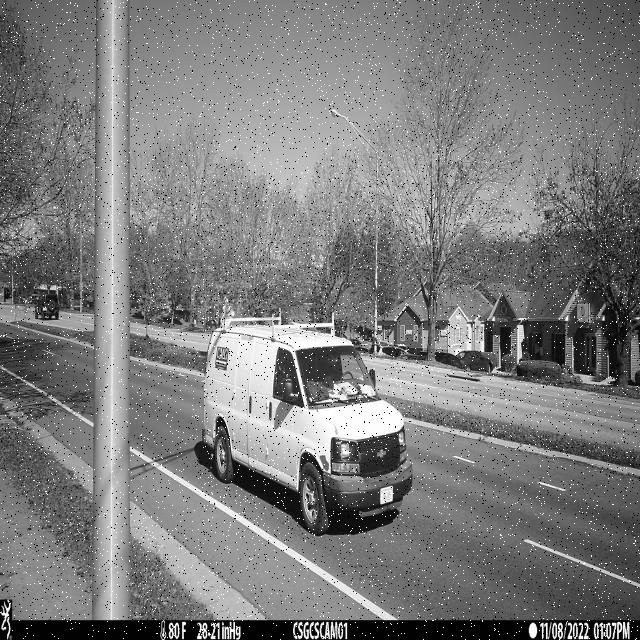Van: (202, 309, 413, 536)
